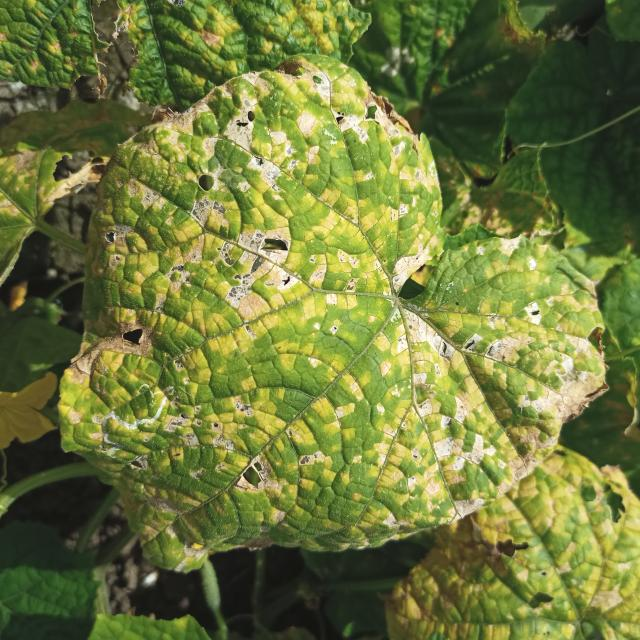disease_cucumber: (74, 67, 594, 562), (385, 465, 640, 640)
